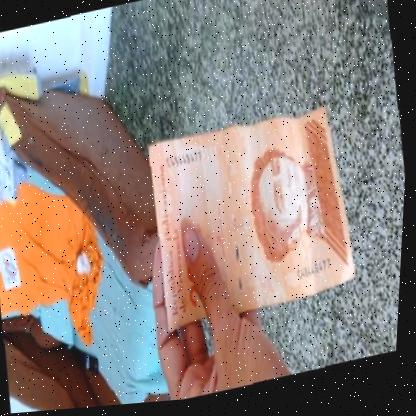twenty-front-vef: (139, 105, 367, 337)
